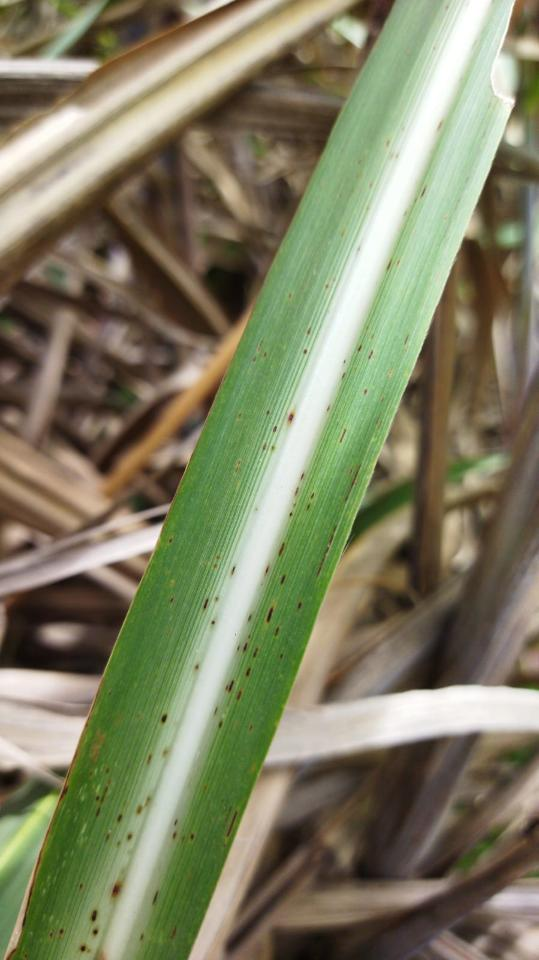Rust: (57, 705, 173, 851), (212, 538, 291, 732), (73, 879, 127, 955), (314, 523, 341, 580), (286, 469, 308, 517), (343, 461, 365, 504), (170, 817, 199, 846), (224, 805, 244, 841), (252, 336, 267, 363), (45, 925, 66, 941), (149, 887, 163, 908), (305, 491, 318, 513), (324, 276, 340, 292), (257, 441, 278, 453), (169, 920, 180, 941), (291, 598, 306, 613), (165, 592, 180, 607), (232, 458, 245, 475), (211, 554, 223, 571), (339, 426, 350, 444), (286, 409, 298, 425), (366, 348, 377, 364), (138, 930, 148, 945), (385, 258, 395, 273), (419, 185, 429, 199), (305, 324, 315, 337), (202, 597, 211, 611), (403, 332, 411, 347), (228, 565, 237, 578), (437, 119, 445, 133), (168, 577, 178, 588), (361, 387, 370, 398), (167, 535, 176, 546), (77, 881, 86, 891), (355, 343, 364, 353), (271, 424, 279, 435), (213, 595, 221, 606), (339, 371, 348, 380), (277, 653, 285, 663), (236, 411, 244, 421), (326, 403, 333, 414), (369, 331, 376, 342), (193, 662, 201, 671), (263, 409, 271, 417), (364, 324, 372, 332), (210, 619, 217, 628), (262, 351, 269, 360), (396, 258, 403, 267), (287, 293, 294, 301), (302, 348, 308, 357), (342, 359, 348, 365)
